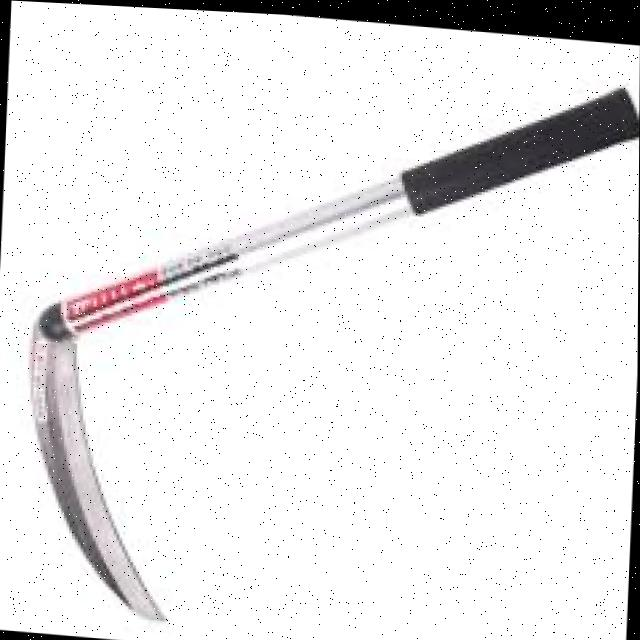sickle: (17, 1, 640, 640)
